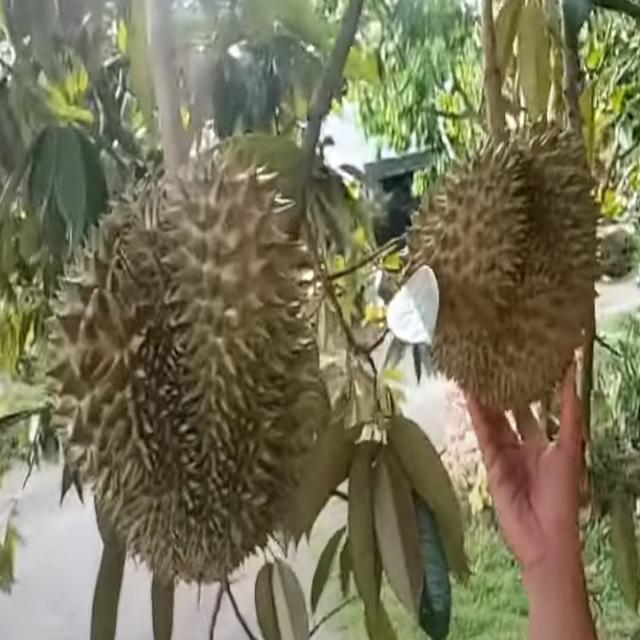mature: (50, 158, 310, 584), (388, 126, 608, 414)
